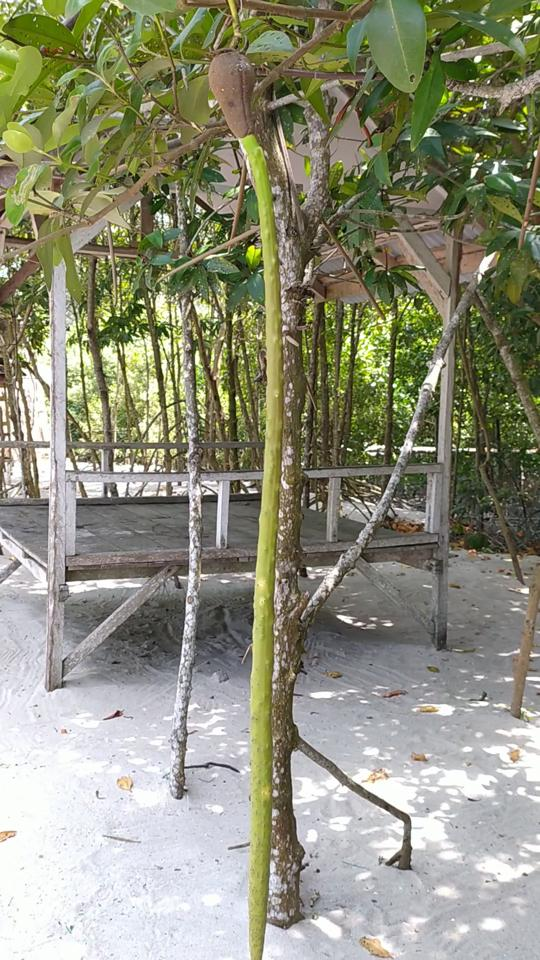mentah: (200, 32, 289, 959)
